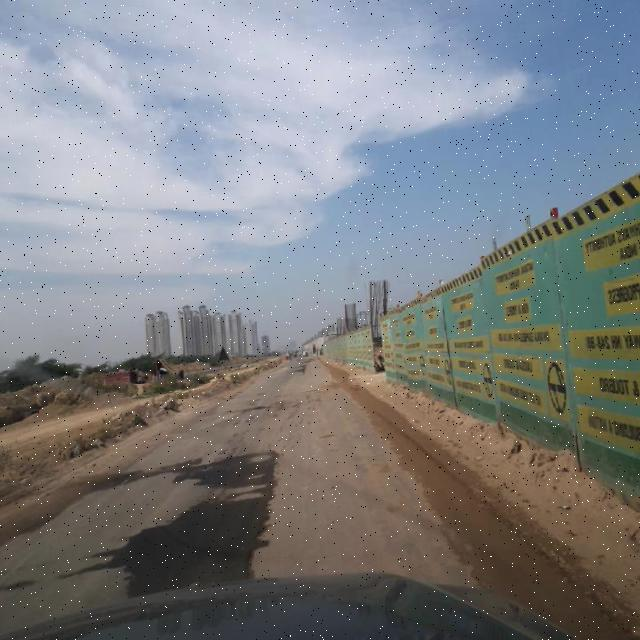D00: (236, 451, 282, 581)
D20: (238, 383, 324, 450)
D40: (175, 457, 220, 481)
